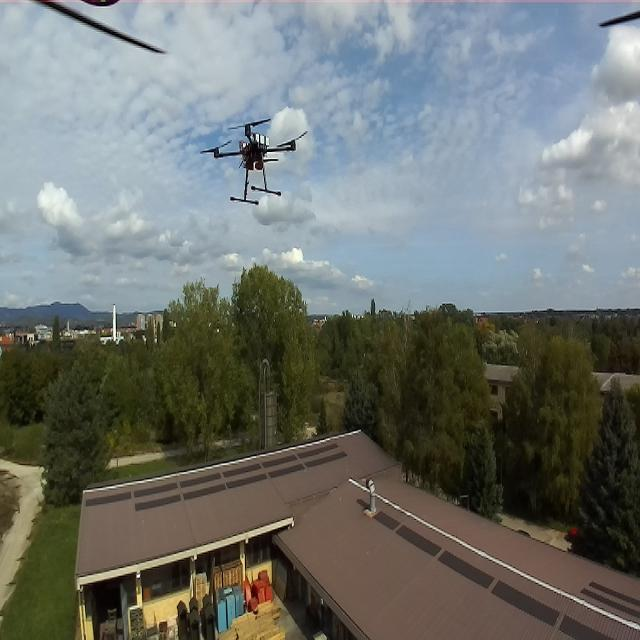UAV: (198, 117, 310, 210)
